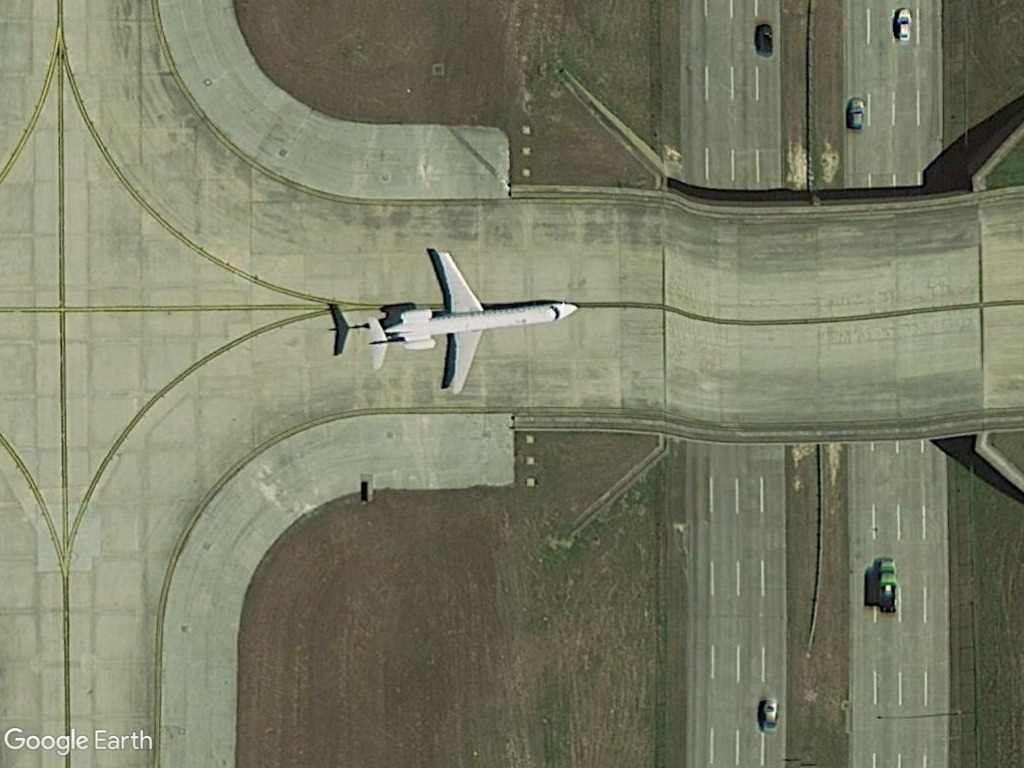chartered: (359, 243, 584, 402)
